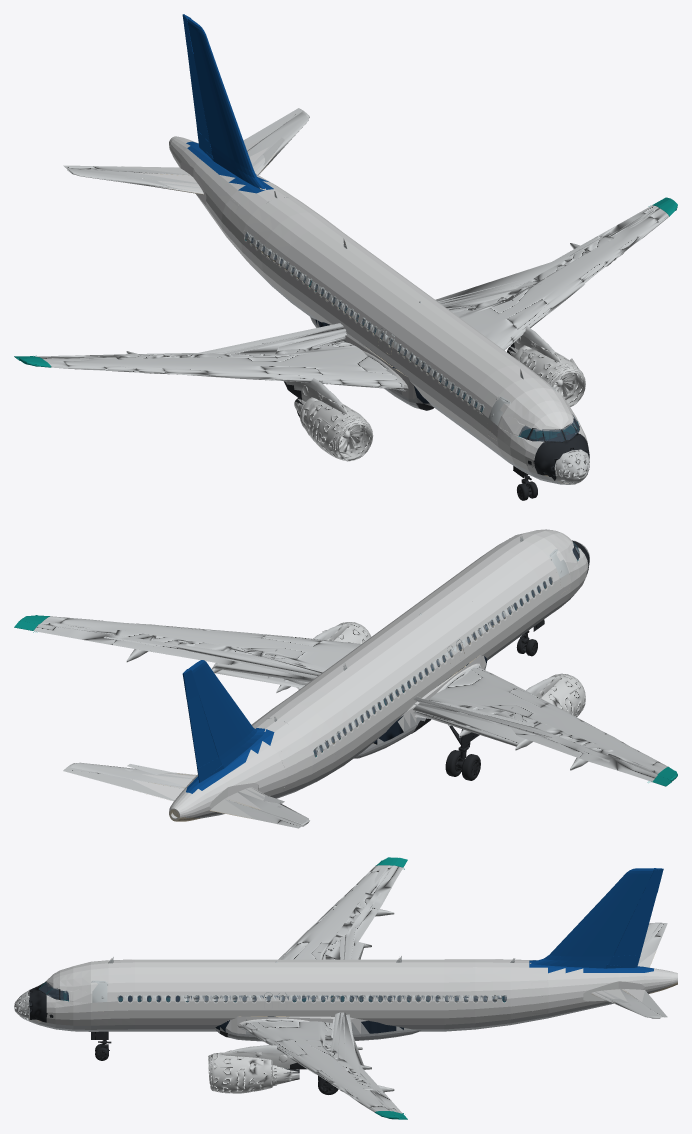
Rendered from pesawat_garuda.glb.
3 views of the same model, one above another, from view 1: azimuth 30°, elevation 25°; view 2: azimuth 150°, elevation 25°; view 3: azimuth 270°, elevation 25° (orthographic). The views are drawn at different scales.
Visible parts, largest first — view 1: Exterior, Interior, Kaca; view 2: Exterior, Interior, Kaca; view 3: Exterior, Interior, Kaca.
Part boxes in pixels (bbox=[...]): Exterior: bbox=[14, 14, 677, 500]; Interior: bbox=[160, 154, 589, 483]; Kaca: bbox=[245, 233, 579, 442]; Exterior: bbox=[14, 529, 677, 828]; Interior: bbox=[146, 537, 589, 821]; Kaca: bbox=[313, 542, 579, 756]; Exterior: bbox=[14, 857, 677, 1119]; Interior: bbox=[29, 952, 677, 1033]; Kaca: bbox=[39, 982, 506, 1002].
Bounding box in the file's own units: 34.79 × 12.03 × 37.58.
